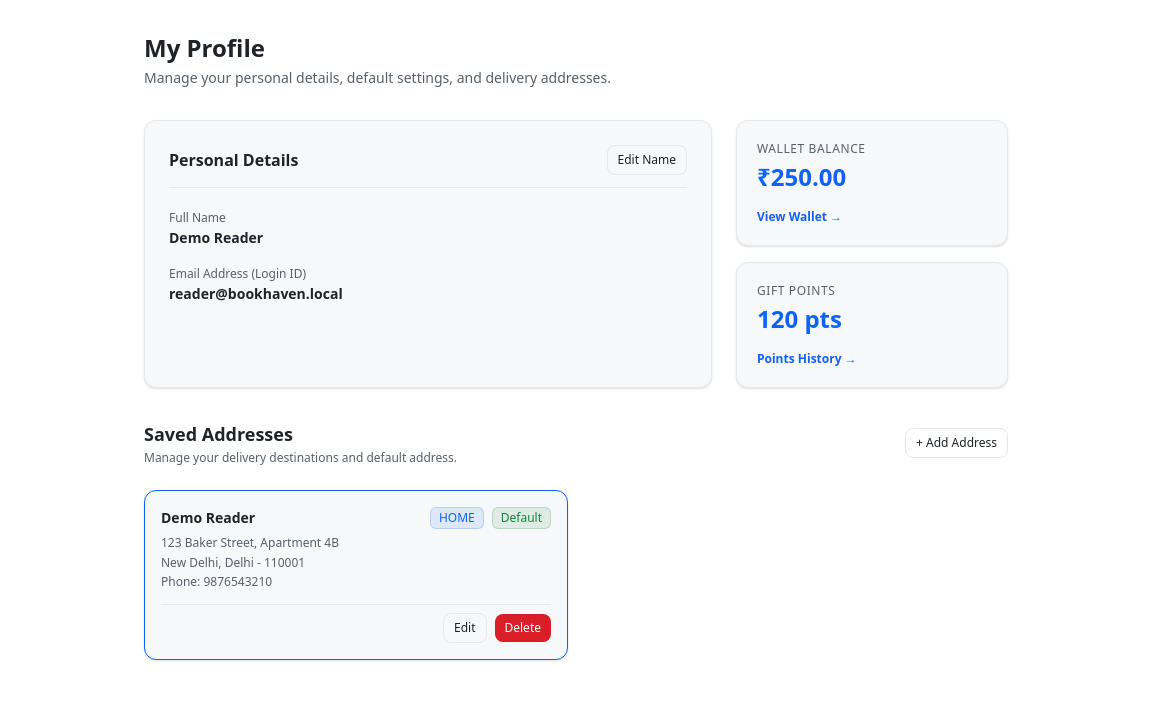
it: ProfilePageTest › serverNameError: a server field error is shown
The image size is (1152, 720).
Click the button "Edit Name".
click(647, 160)  # box [606,145,687,175]
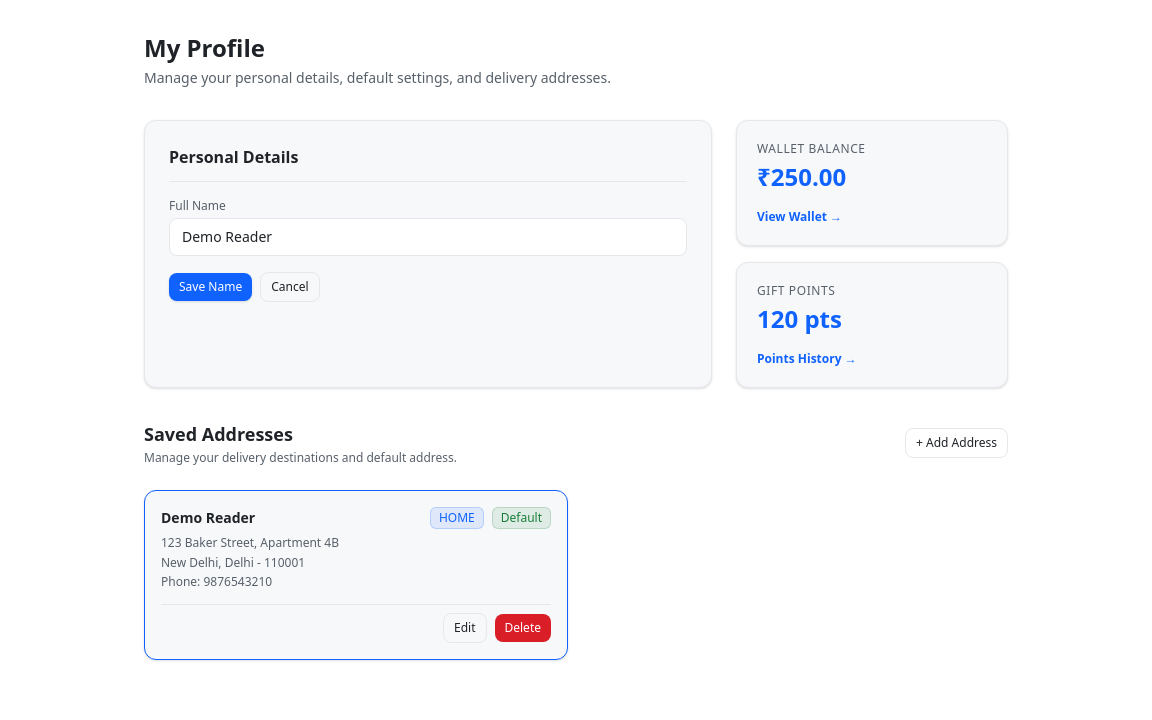
Click the button "Save Name".
click(211, 287)  # box [169,273,252,301]
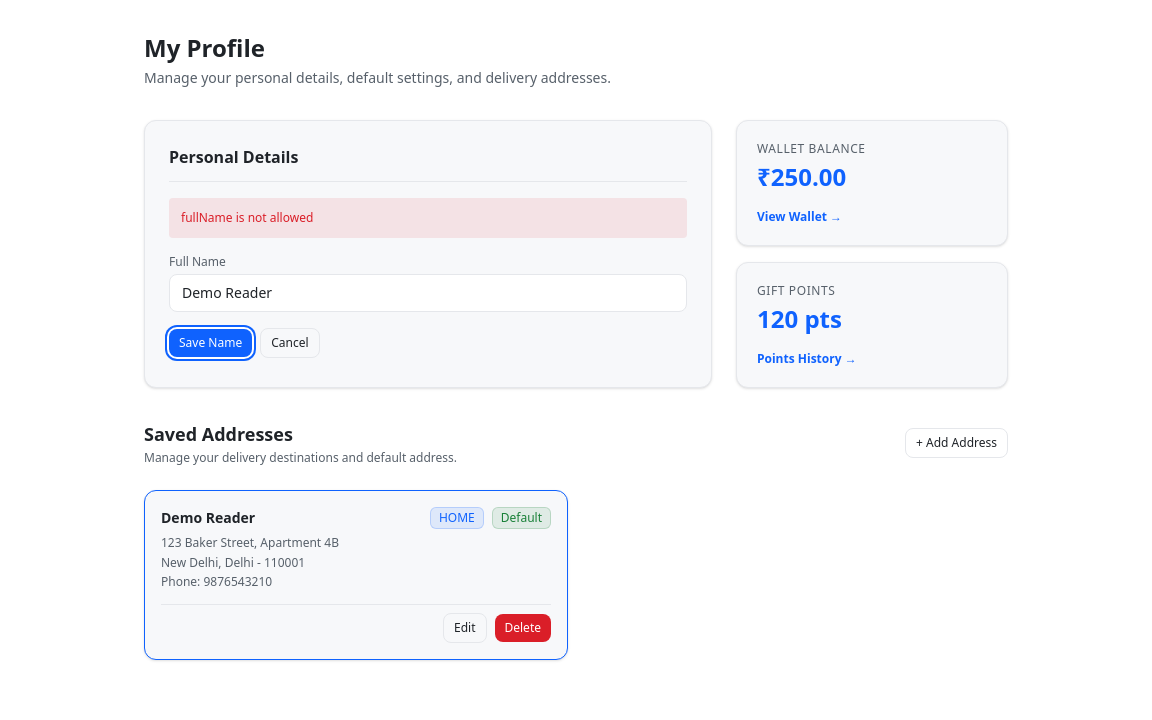
Now the text "fullName is not allowed" is shown, box [169,198,687,238]
